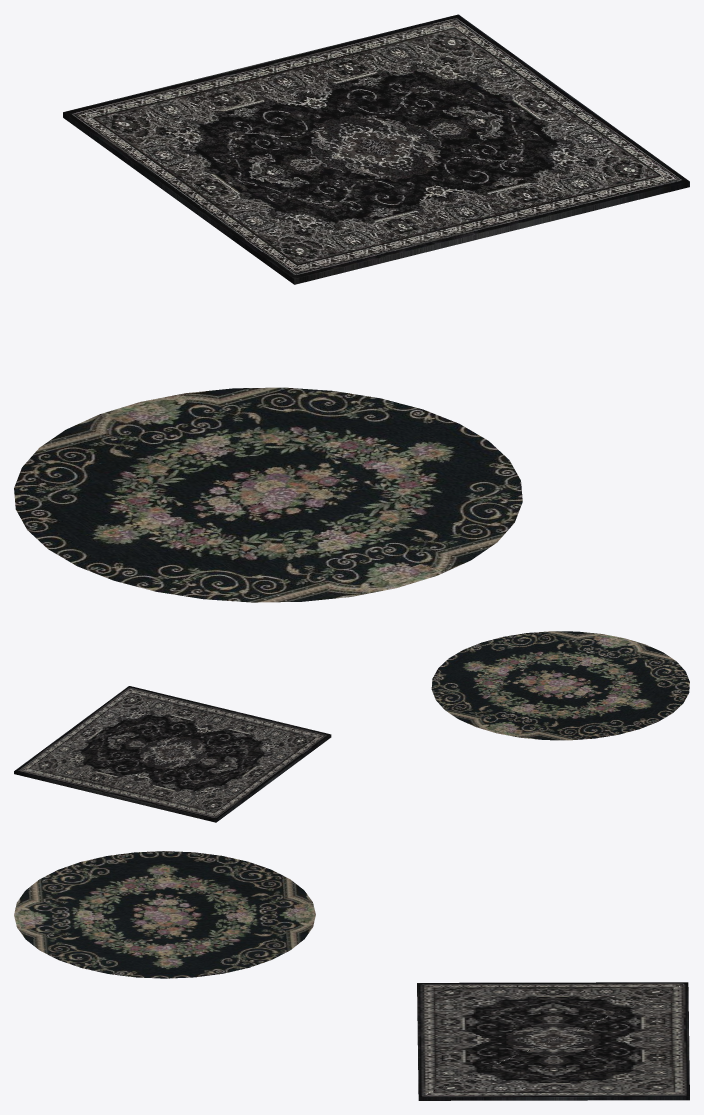
The model's file is Alfombras.fbx.
The picture shows the model from 3 angles, top to bottom: view 1: azimuth 30°, elevation 25°; view 2: azimuth 150°, elevation 25°; view 3: azimuth 270°, elevation 25°; orthographic projection. The views are drawn at different scales.
Visible parts, largest first — view 1: Plane.008, Tapete; view 2: Plane.008, Tapete; view 3: Plane.008, Tapete.
Boxes of the visible parts, box(x1,y1,x2,y2) form: Plane.008: box(63, 14, 689, 284); Tapete: box(14, 387, 522, 602); Plane.008: box(14, 686, 331, 822); Tapete: box(431, 631, 689, 740); Plane.008: box(417, 982, 689, 1100); Tapete: box(14, 851, 315, 978).
Size of the model in its own units: 8.92 by 0.055 by 10.3.
Materials: 2 (2 with a texture image).
